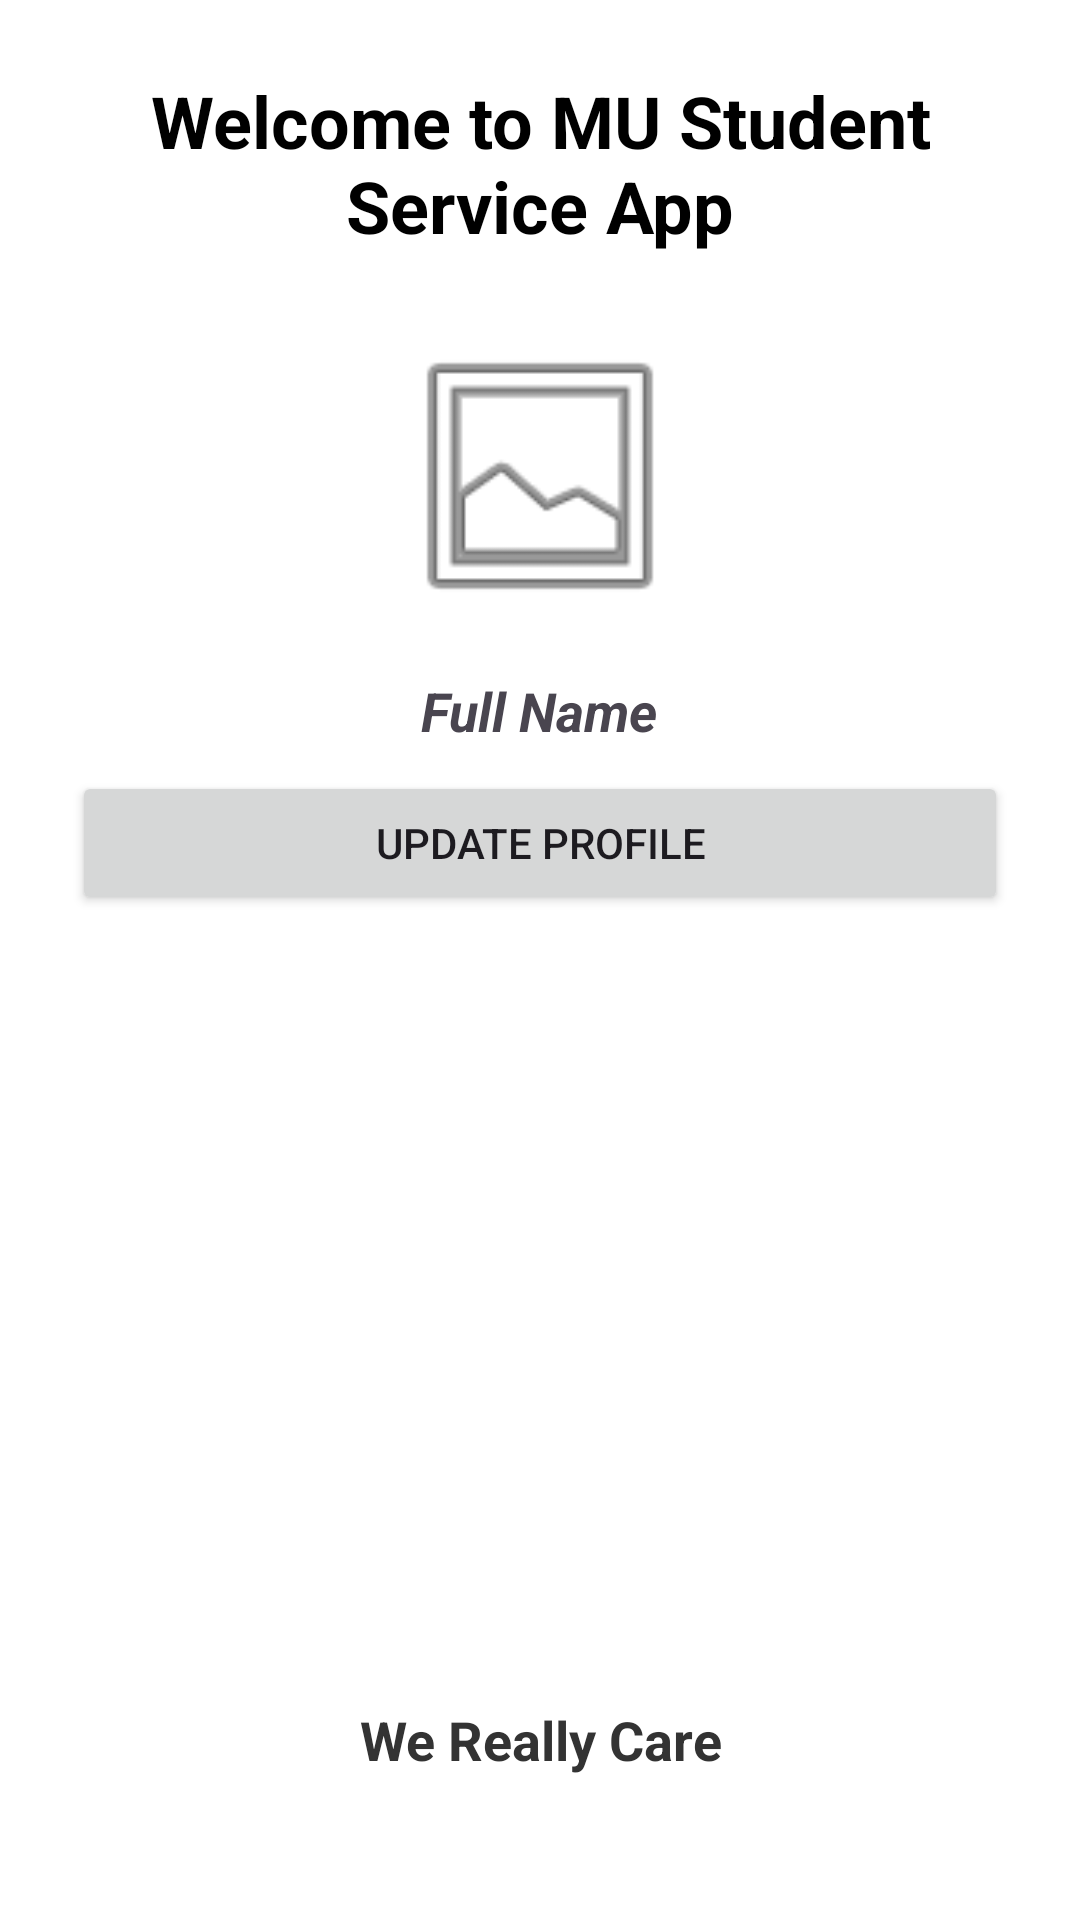

Point at icon controls on the screen. Image size 1080px×1920px, points as (x=x, y=y).
gallery: (x=540, y=476)
